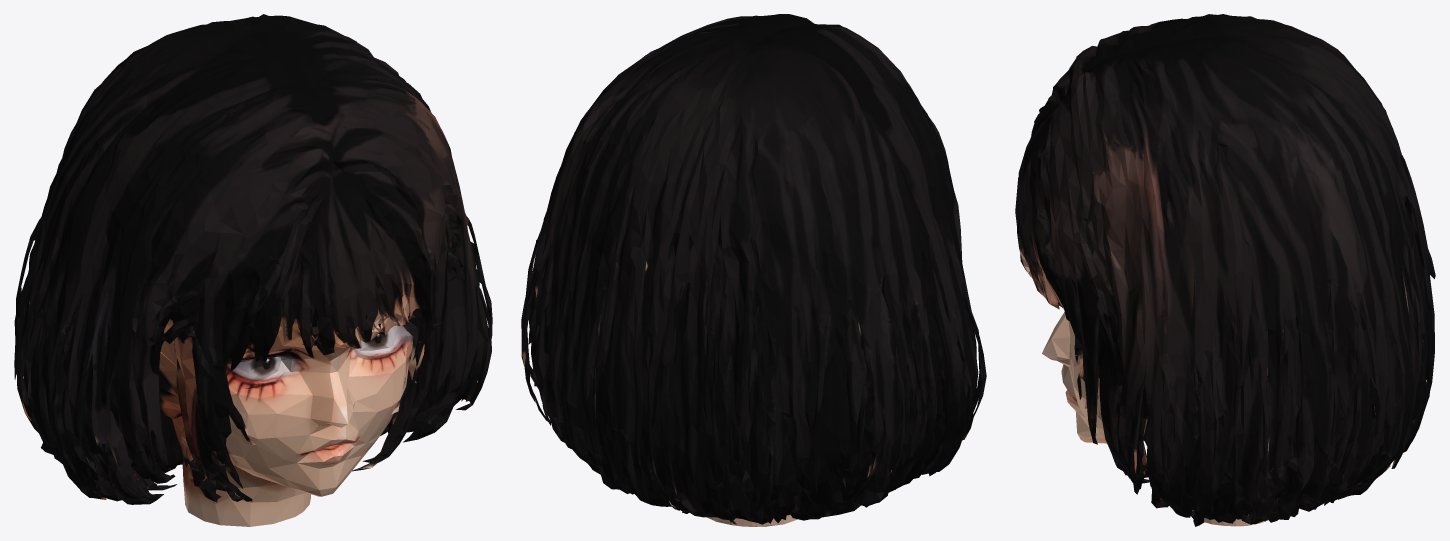
File: side_rika_repaired_atlas.glb
The picture shows the model from 3 angles, left to right: view 1: azimuth 30°, elevation 25°; view 2: azimuth 150°, elevation 25°; view 3: azimuth 270°, elevation 25°; orthographic projection. The views are drawn at different scales.
Parts seen in each view (by area): view 1: temp_mesh.ply; view 2: temp_mesh.ply; view 3: temp_mesh.ply.
Part boxes in pixels (bbox=[...]): temp_mesh.ply: bbox=[14, 14, 492, 526]; temp_mesh.ply: bbox=[521, 14, 986, 526]; temp_mesh.ply: bbox=[1015, 14, 1435, 526].
Size of the model in its own units: 1.87 by 1.97 by 1.62.
Materials: 1 (1 with a texture image).
